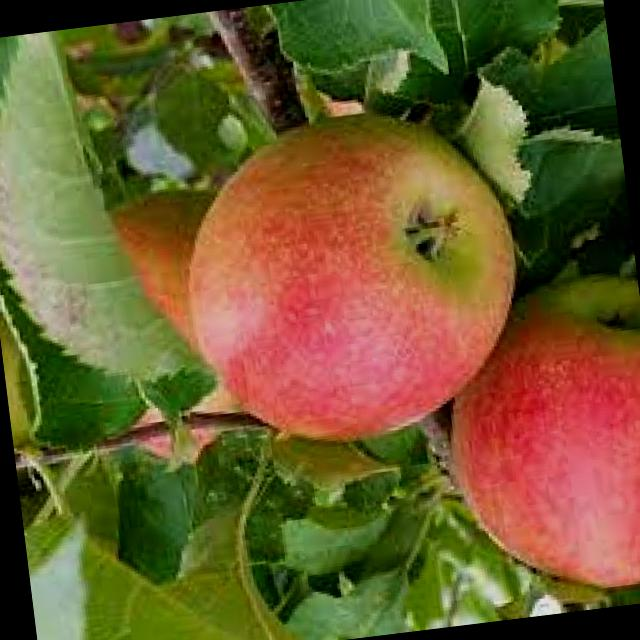Apple: (167, 96, 537, 462), (429, 268, 640, 607)
